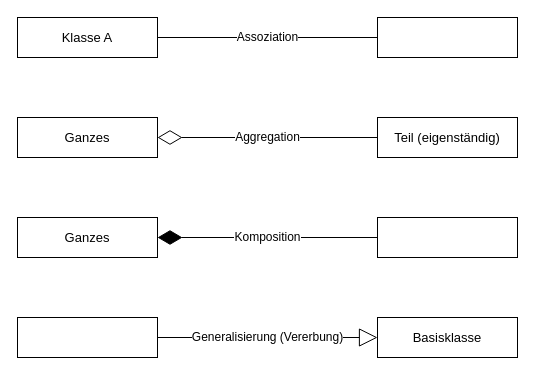
The diagram is 535 pixels wide and 375 high, and some of its shapes have lost their labels. The shapes that lost their labels are listed below. From the top down, each one's centre as x and y in pixels, then its label:
the point at 447,37: Klasse B
the point at 447,237: Teil (stirbt mit)
the point at 87,337: Abgeleitete Klasse
